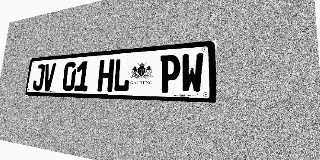0: (62, 62, 77, 91)
1: (74, 61, 90, 91)
H: (97, 59, 115, 92)
J: (32, 64, 45, 91)
L: (112, 58, 131, 92)
P: (159, 54, 181, 93)
V: (42, 63, 56, 91)
W: (180, 53, 204, 93)
